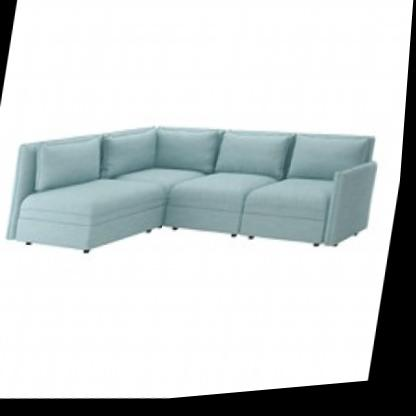Sofa: (0, 90, 395, 302)
